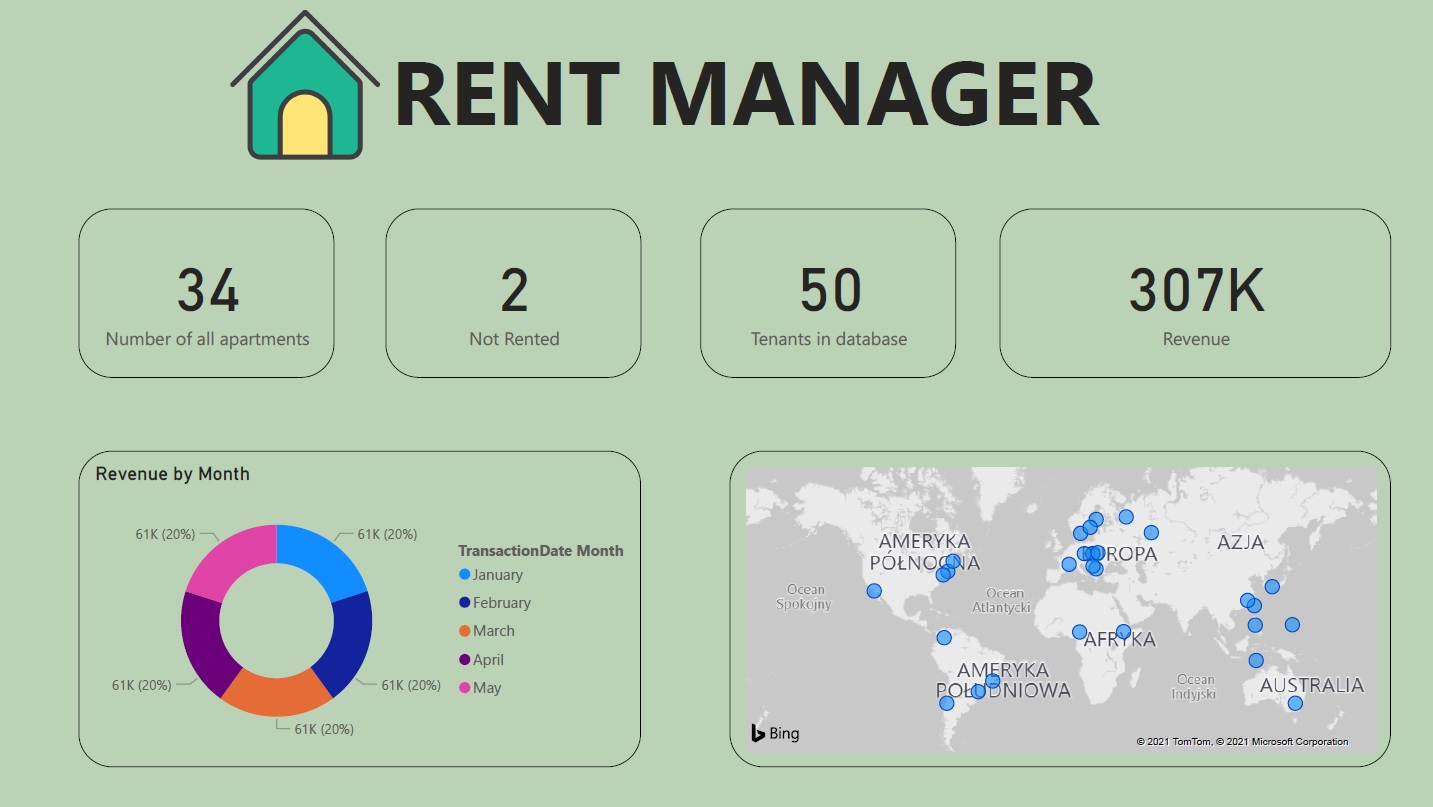

The dashboard page shown, as its layout file describes it:
{"tool":"powerbi","page":{"name":"Page 1","canvas":[1280,720],"ordinal":0},"visuals":[{"type":"textbox","box":[344.7,20.6,760.9,149.7],"z":0},{"type":"image","box":[201.9,0,142.8,149.7],"z":1},{"type":"card","fields":{"Values":["rent property.Measure"]},"box":[71.4,185.4,228,151.1],"z":2},{"type":"card","fields":{"Values":["Not Rented.Measure"]},"box":[344.7,185.4,228,151.1],"z":3},{"type":"card","fields":{"Values":["rent tenant.Number of tenants"]},"box":[624.9,185.4,228,151.1],"z":4},{"type":"donutChart","fields":{"Category":["rent transactions.TransactionDate.Variation.Date Hierarchy.Month"],"Y":["Sum(rent transactions.Amount)"]},"box":[71.4,401,501.3,281.5],"z":5},{"type":"card","fields":{"Values":["Sum(rent transactions.Amount)"]},"box":[891.3,185.4,348.8,151.1],"z":6},{"type":"map","fields":{"Category":["rent tenant.City"]},"box":[651,401,589.2,281.5],"z":7}]}

Visuals, with their boxes in screenshot pixels (x1, y1, x2, y2), scaled from the page's 1280x720 canvas onto the 1433x807 screenshot:
textbox: locate(386, 23, 1238, 191)
image: locate(226, 0, 386, 168)
card - rent property.Measure: locate(80, 208, 335, 377)
card - Not Rented.Measure: locate(386, 208, 641, 377)
card - rent tenant.Number of tenants: locate(700, 208, 955, 377)
donutChart - rent transactions.TransactionDate.Variation.Date Hierarchy.Month x Sum(rent transactions.Amount): locate(80, 449, 641, 765)
card - Sum(rent transactions.Amount): locate(998, 208, 1388, 377)
map - rent tenant.City: locate(729, 449, 1388, 765)
